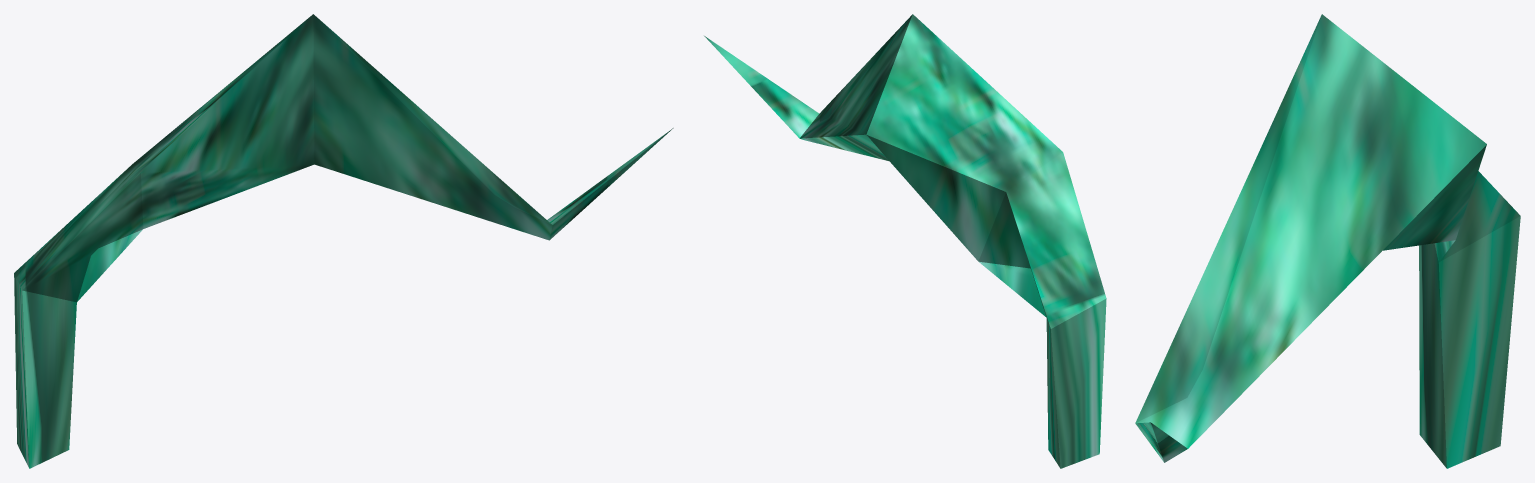
File: H1_BluePlant_Branch_4.gltf
3 renders of one model, left to right at view 1: azimuth 30°, elevation 25°; view 2: azimuth 150°, elevation 25°; view 3: azimuth 270°, elevation 25°, orthographic. The views are drawn at different scales.
Parts seen in each view (by area): view 1: H1_BluePlant_Branch_4; view 2: H1_BluePlant_Branch_4; view 3: H1_BluePlant_Branch_4.
Boxes of the visible parts, bbox=[...] form: H1_BluePlant_Branch_4: bbox=[14, 14, 673, 468]; H1_BluePlant_Branch_4: bbox=[704, 14, 1106, 468]; H1_BluePlant_Branch_4: bbox=[1135, 14, 1520, 468].
Size of the model in its own units: 4.9 by 3.52 by 2.08.
Materials: 1 (1 with a texture image).
